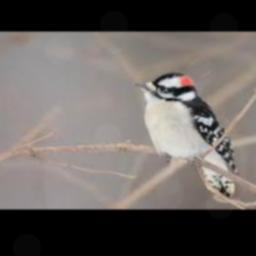Woodpecker: (135, 72, 237, 198)
